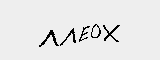Л: (34, 29, 60, 46), (61, 27, 78, 45)
О: (88, 24, 102, 40)
У: (78, 25, 90, 42)
Х: (101, 24, 121, 42)
